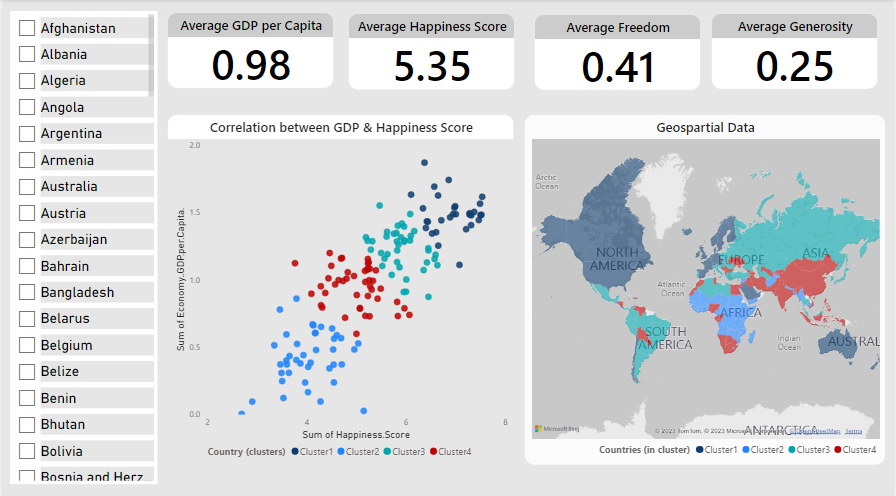

The dashboard page shown, as its layout file describes it:
{"tool":"powerbi","page":{"name":"Page 2","canvas":[1280,720],"ordinal":1},"visuals":[{"type":"slicer","fields":{"Values":["CountryRanks.Country"]},"box":[9.7,16.6,212.3,679.8],"z":0},{"type":"filledMap","title":"Geospartial Data","fields":{"Category":["HappinessData-2017.Country"],"Series":["HappinessData-2017.Country (clusters)"]},"box":[749.1,165.1,520.2,505],"z":0,"group":"g2"},{"type":"group","id":"g1","title":"Group 1","box":[235.8,18,1022.4,112.4],"z":1000},{"type":"card","title":"Average Freedom","fields":{"Values":["HappinessData-2017.Average Freedom"]},"box":[763,20.8,240,109.6],"z":1000,"group":"g1"},{"type":"card","title":"Average Happiness Score","fields":{"Values":["HappinessData-2017.Average Happines Score"]},"box":[495.2,19.4,240,111],"z":2000,"group":"g1"},{"type":"group","id":"g2","title":"Group 2","box":[235.8,165.1,1033.5,507.7],"z":2000},{"type":"card","title":"Average GDP per Capita","fields":{"Values":["HappinessData-2017.Average GDP.per.Capita"]},"box":[235.8,18,240,109.6],"z":3000,"group":"g1"},{"type":"card","title":"Average Generosity","fields":{"Values":["HappinessData-2017.Average Generosity"]},"box":[1018.2,19.4,240,109.6],"z":4000,"group":"g1"},{"type":"scatterChart","title":"Correlation between GDP & Happiness Score","fields":{"Category":["HappinessData-2017.Country"],"X":["Sum(HappinessData-2017.Happiness.Score)"],"Series":["HappinessData-2017.Country (clusters)"],"Y":["Sum(HappinessData-2017.Economy..GDP.per.Capita.)"]},"box":[235.8,165.1,499.4,507.7],"z":5000,"group":"g2"}]}

Visuals, with their boxes in screenshot pixels (x1, y1, x2, y2), scaled from the page's 1280x720 canvas onto the 896x496 screenshot:
slicer - CountryRanks.Country: [left=7, top=11, right=155, bottom=480]
"Geospartial Data" filledMap: [left=524, top=114, right=889, bottom=462]
"Group 1" group: [left=165, top=12, right=881, bottom=90]
"Average Freedom" card: [left=534, top=14, right=702, bottom=90]
"Average Happiness Score" card: [left=347, top=13, right=515, bottom=90]
"Group 2" group: [left=165, top=114, right=889, bottom=463]
"Average GDP per Capita" card: [left=165, top=12, right=333, bottom=88]
"Average Generosity" card: [left=713, top=13, right=881, bottom=89]
"Correlation between GDP & Happiness Score" scatterChart: [left=165, top=114, right=515, bottom=463]
